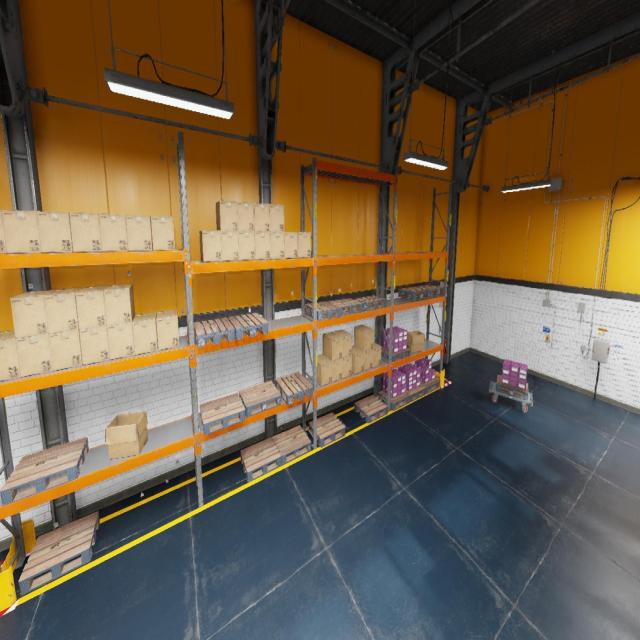box: (10, 290, 56, 338), (105, 411, 148, 459), (44, 288, 83, 334), (1, 210, 41, 253), (15, 334, 52, 377), (37, 211, 73, 252), (75, 286, 109, 329), (49, 329, 82, 371), (69, 212, 102, 252), (103, 284, 135, 325), (79, 326, 109, 365), (98, 214, 128, 252), (132, 312, 158, 355), (107, 322, 134, 360), (0, 330, 20, 381), (125, 214, 153, 250), (156, 310, 179, 350), (151, 216, 175, 250), (199, 230, 222, 262), (215, 200, 238, 231), (313, 354, 332, 386), (333, 329, 352, 358), (323, 332, 342, 361), (220, 231, 238, 261), (354, 325, 373, 351), (237, 202, 254, 231), (253, 203, 270, 231), (238, 232, 255, 260), (354, 346, 373, 370), (255, 232, 270, 260), (269, 204, 284, 232), (284, 232, 298, 258), (270, 232, 284, 258), (407, 331, 424, 352), (352, 345, 364, 374), (0, 210, 7, 253), (298, 232, 310, 257), (329, 359, 342, 382), (342, 355, 352, 379), (373, 342, 381, 367)
pallets: (18, 511, 100, 595), (0, 437, 89, 505), (200, 393, 245, 435), (240, 437, 281, 482), (272, 425, 311, 464), (239, 381, 281, 417), (309, 412, 345, 448), (275, 372, 313, 406), (194, 318, 234, 347), (228, 313, 268, 339), (354, 395, 388, 423), (496, 375, 528, 400), (305, 301, 341, 321), (378, 390, 410, 410), (327, 298, 364, 315), (381, 346, 410, 362), (354, 296, 386, 310), (398, 287, 430, 300), (405, 384, 426, 402), (415, 284, 444, 297), (420, 378, 440, 394)
